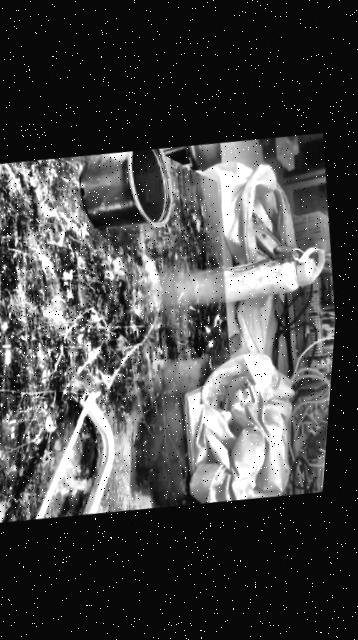pot: (72, 143, 178, 237)
